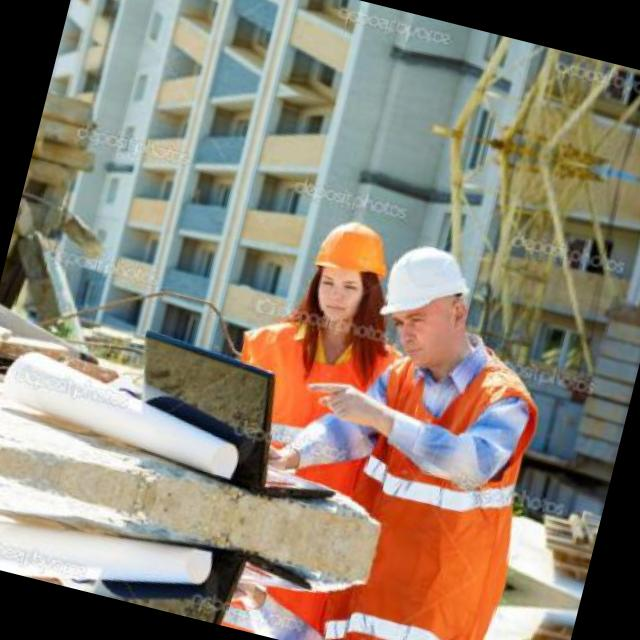helmet: (362, 224, 494, 378), (293, 200, 401, 339)
